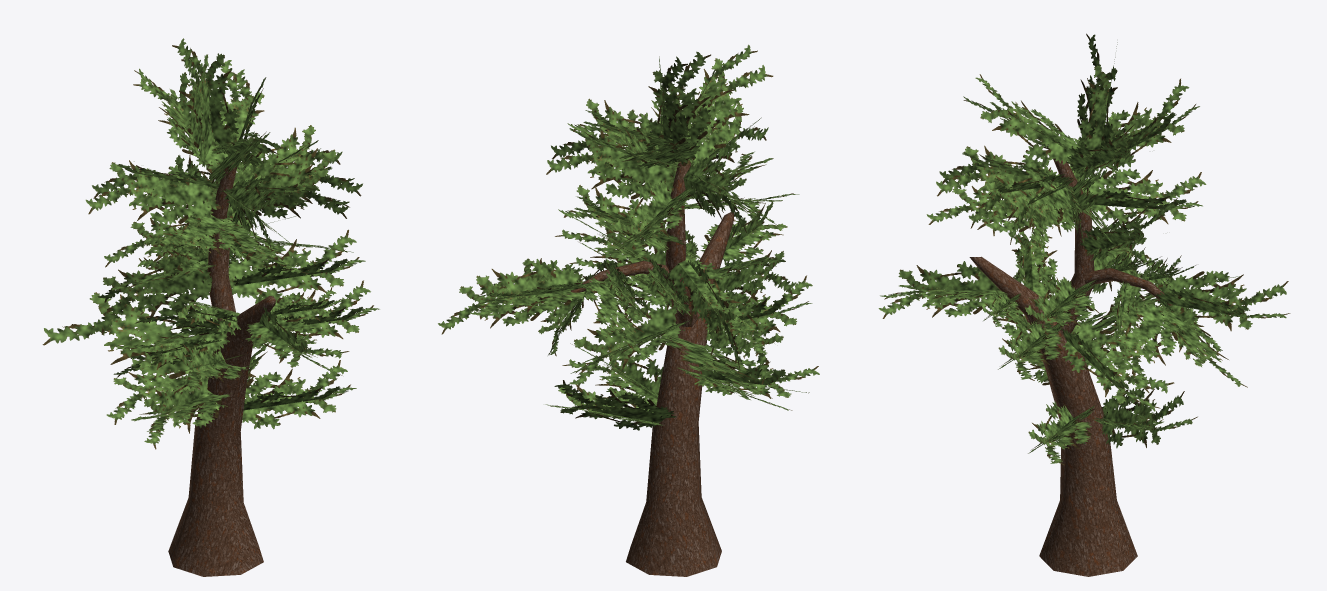
File: TerrainTree3.fbx
The picture shows the model from 3 angles, left to right: view 1: azimuth 30°, elevation 25°; view 2: azimuth 150°, elevation 25°; view 3: azimuth 270°, elevation 25°; orthographic projection.
Visible parts, largest first — view 1: Tree3; view 2: Tree3; view 3: Tree3.
Boxes of the visible parts, x1,y1,x2,y2 form: Tree3: (42, 38, 379, 576); Tree3: (438, 44, 819, 576); Tree3: (878, 33, 1290, 576).
Bounding box in the file's own units: 330 × 473 × 362.
